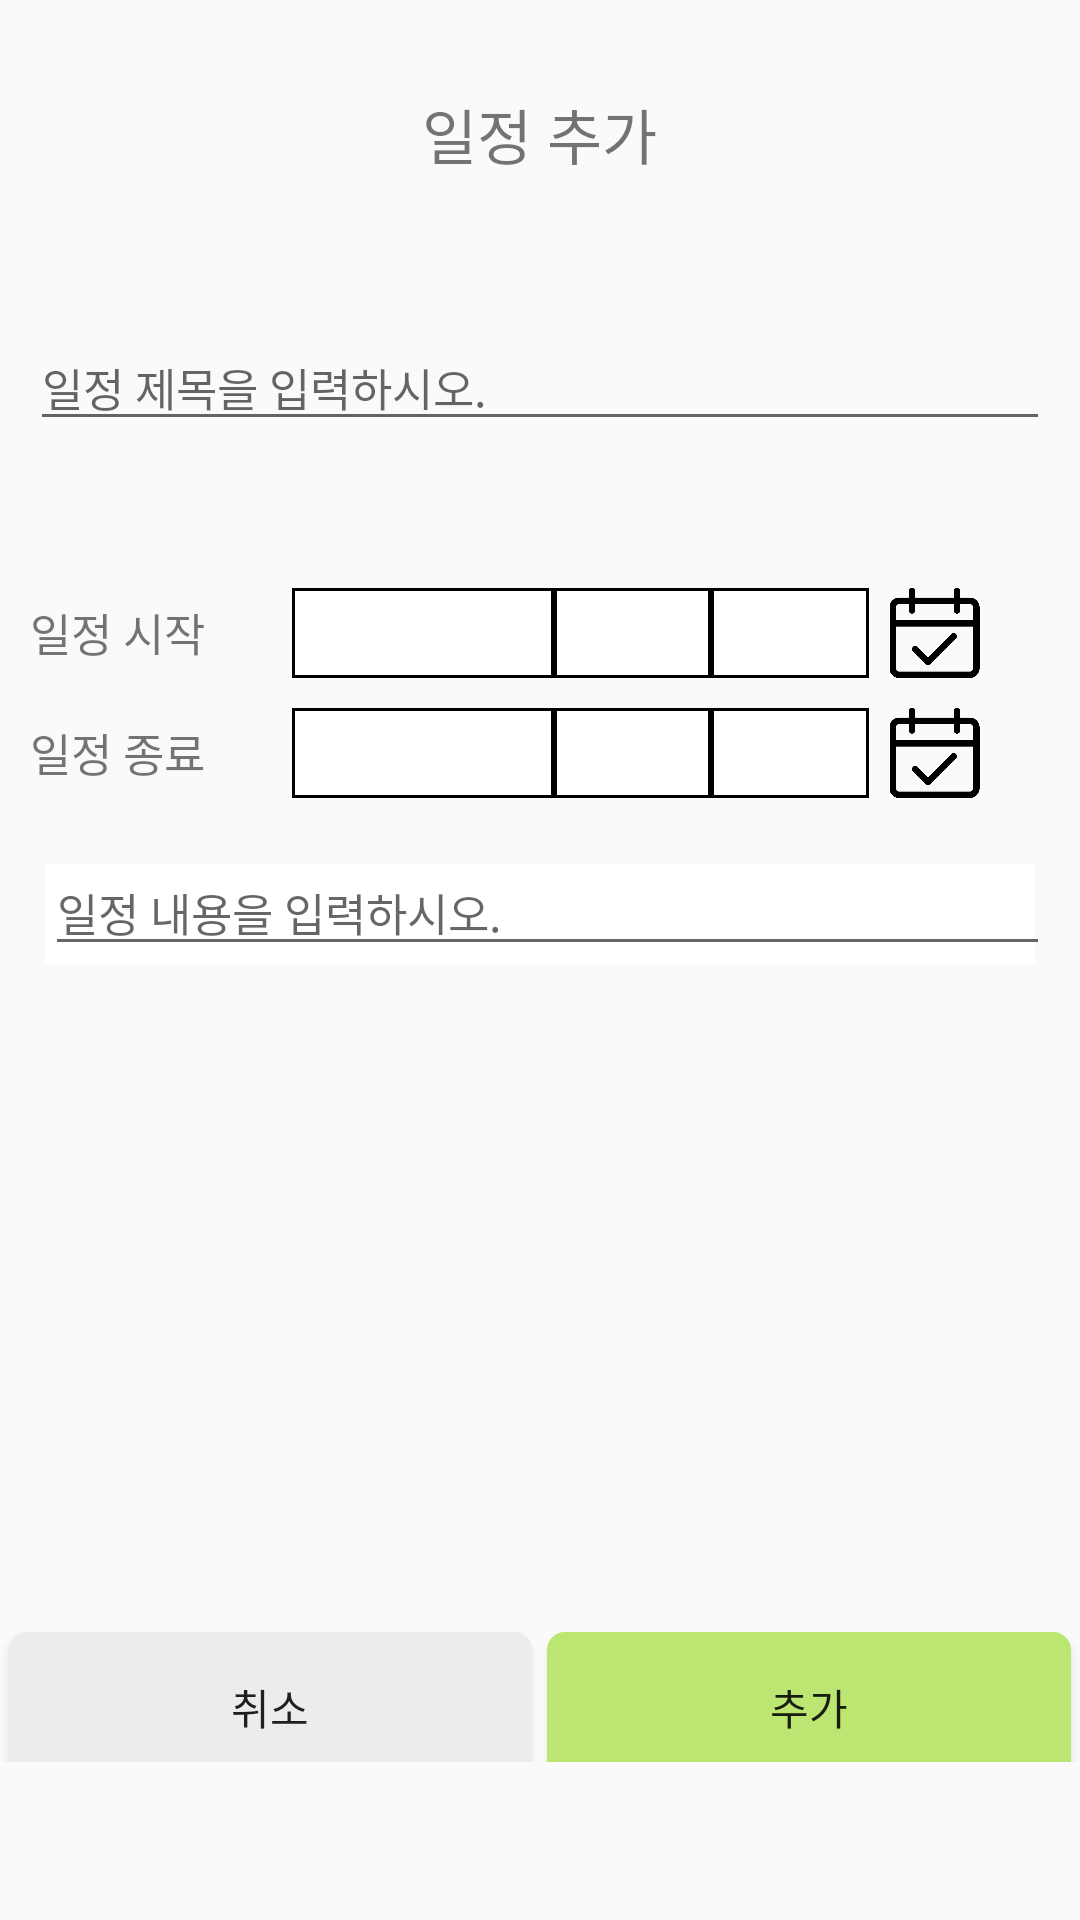

Named icons in this screenshot (1080x1920) and their bounding boxes, rect(x1, y1, x2, y2):
date: rect(890, 588, 980, 678), rect(890, 708, 980, 798)
